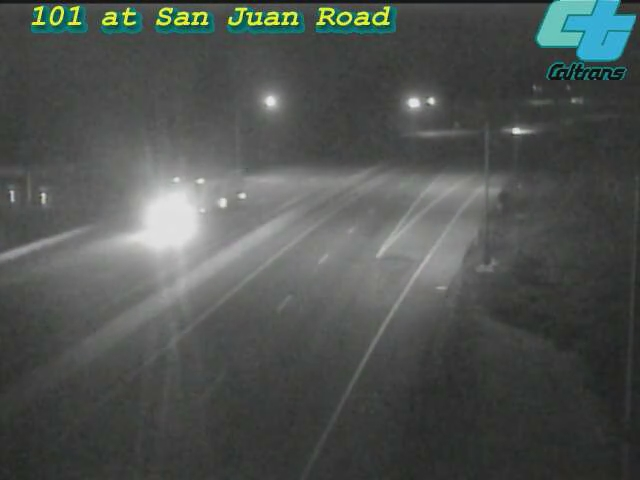vehicle: (148, 165, 228, 245), (494, 106, 544, 156)
